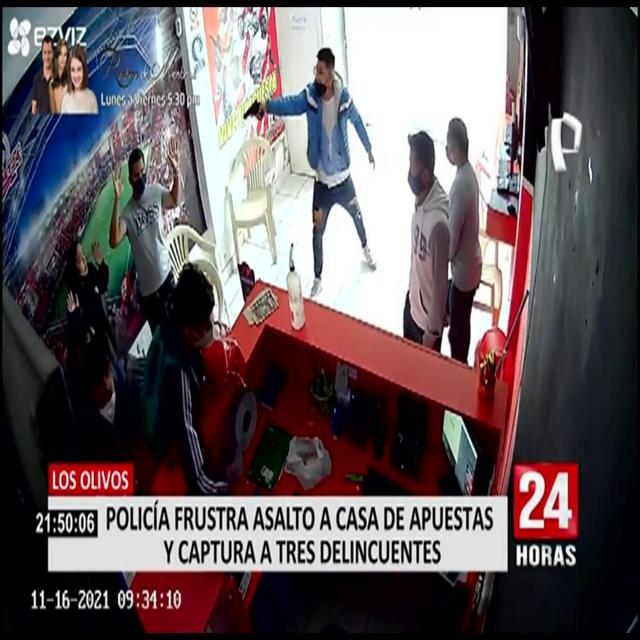gun: (237, 86, 269, 134)
